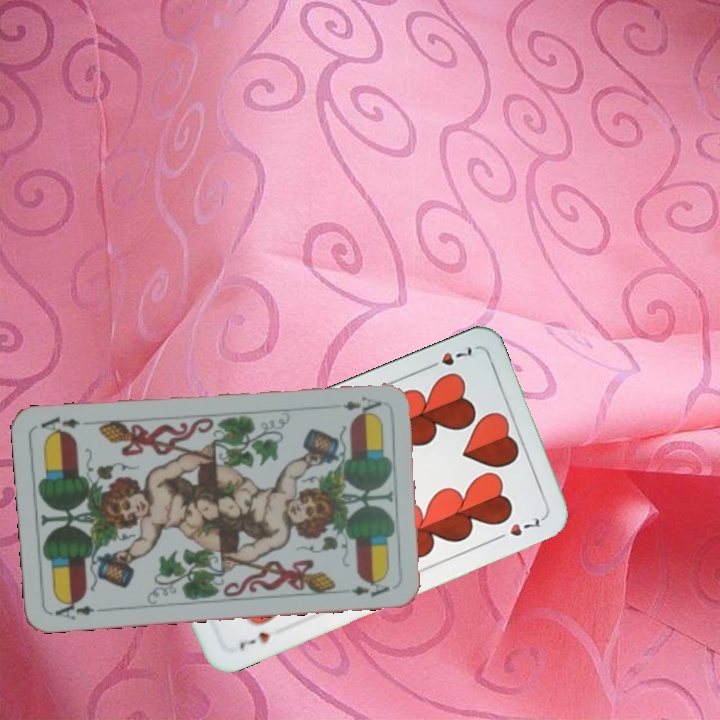EA: (50, 595, 98, 623), (339, 393, 384, 416)
H7: (421, 342, 475, 372), (235, 628, 272, 652)
